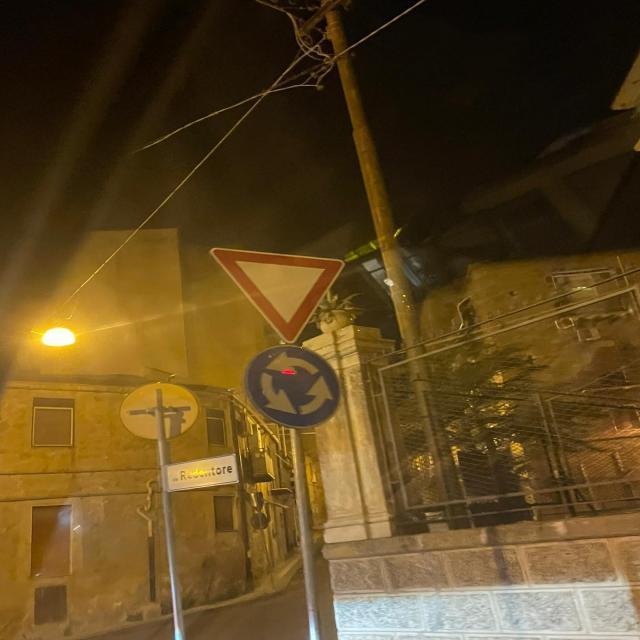prio_give_way: (208, 243, 347, 347)
